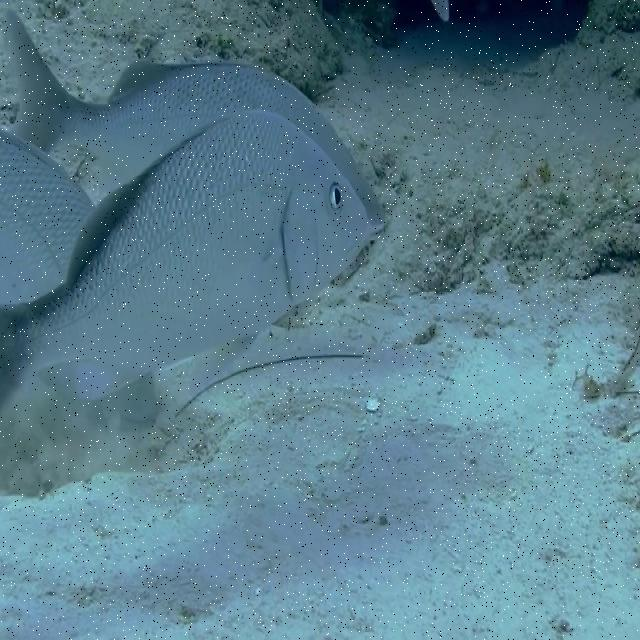fish: (0, 109, 369, 405), (6, 1, 385, 237)
